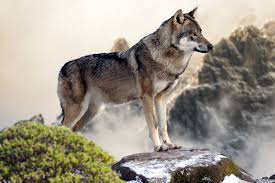Lobo: (55, 2, 219, 140)
